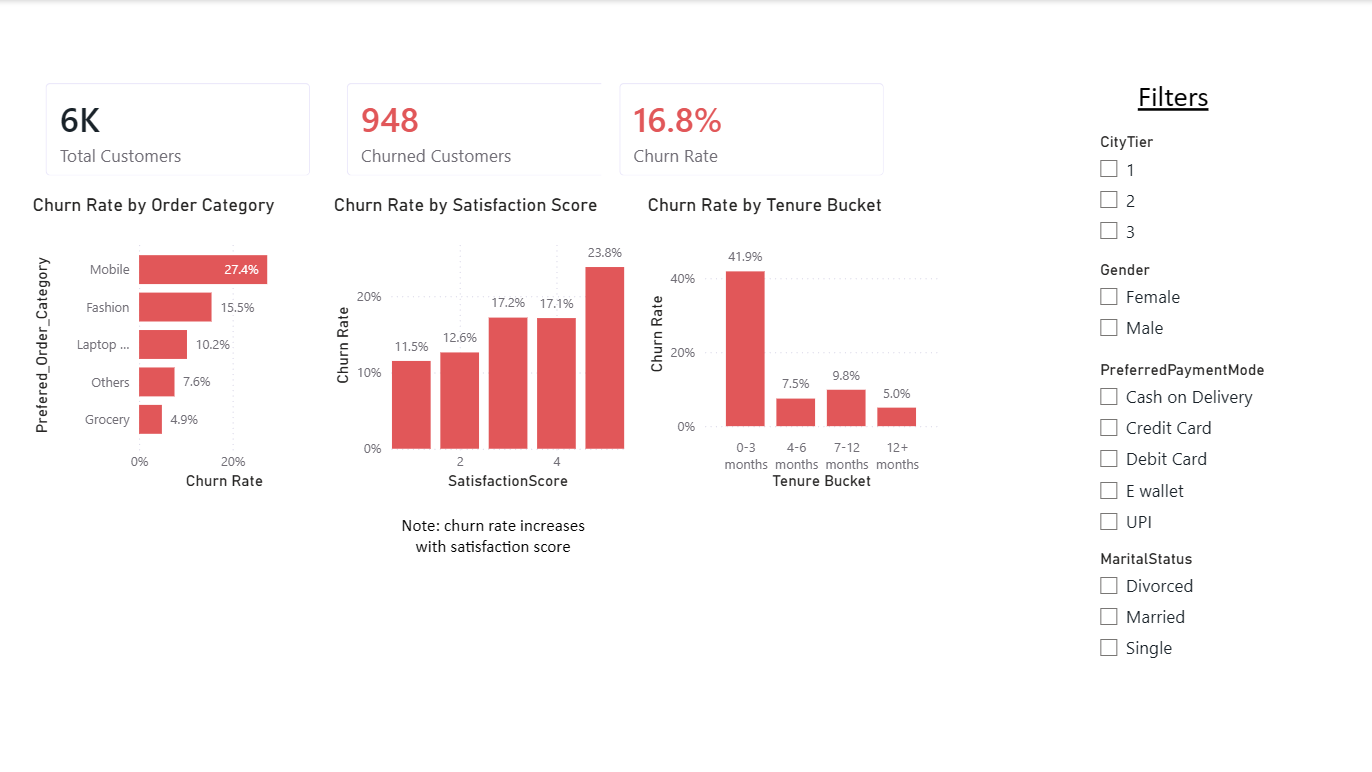

Layout of this report page (visuals, bound fields, positions):
{"tool":"powerbi","page":{"name":"Churn Overview","canvas":[1280,720],"ordinal":0},"visuals":[{"type":"cardVisual","fields":{"Data":["ecommerce_churn_for_powerbi.Total Customers"]},"box":[26,60.9,280.2,120],"z":0},{"type":"cardVisual","fields":{"Data":["ecommerce_churn_for_powerbi.Churned Customers"]},"box":[306.3,60.9,280,120],"z":1000},{"type":"cardVisual","fields":{"Data":["ecommerce_churn_for_powerbi.Churn Rate"]},"box":[559.8,60.9,280,120],"z":2000},{"type":"clusteredBarChart","title":"Churn Rate by Order Category","fields":{"Category":["ecommerce_churn_for_powerbi.PreferedOrderCat"],"Y":["ecommerce_churn_for_powerbi.Churn Rate"]},"box":[26,180.7,280,280],"z":3000},{"type":"clusteredColumnChart","title":"Churn Rate by Satisfaction Score","fields":{"Category":["ecommerce_churn_for_powerbi.SatisfactionScore"],"Y":["ecommerce_churn_for_powerbi.Churn Rate"]},"box":[306.3,180.7,280,280],"z":4000},{"type":"textbox","box":[358.6,474.9,201.2,52.3],"z":5000},{"type":"clusteredColumnChart","fields":{"Category":["ecommerce_churn_for_powerbi.Tenure Bucket"],"Y":["ecommerce_churn_for_powerbi.Churn Rate"]},"box":[598.1,180.2,280,280],"z":6000},{"type":"slicer","fields":{"Values":["ecommerce_churn_for_powerbi.CityTier"]},"box":[1010.7,118.1,102.3,118.6],"z":7000},{"type":"slicer","fields":{"Values":["ecommerce_churn_for_powerbi.Gender"]},"box":[1010.7,236.7,101.2,93],"z":8000},{"type":"slicer","fields":{"Values":["ecommerce_churn_for_powerbi.PreferredPaymentMode"]},"box":[1010.7,329.8,193,175.6],"z":9000},{"type":"slicer","fields":{"Values":["ecommerce_churn_for_powerbi.MaritalStatus"]},"box":[1010.7,505.4,127.9,125.6],"z":10000},{"type":"textbox","box":[990.7,68.6,201.2,52.3],"z":11000}]}

Visuals, with their boxes in screenshot pixels (x1, y1, x2, y2), scaled from the page's 1280x720 canvas onto the 1372x772 screenshot:
cardVisual - ecommerce_churn_for_powerbi.Total Customers: detection(28, 65, 328, 194)
cardVisual - ecommerce_churn_for_powerbi.Churned Customers: detection(328, 65, 628, 194)
cardVisual - ecommerce_churn_for_powerbi.Churn Rate: detection(600, 65, 900, 194)
"Churn Rate by Order Category" clusteredBarChart: detection(28, 194, 328, 494)
"Churn Rate by Satisfaction Score" clusteredColumnChart: detection(328, 194, 628, 494)
textbox: detection(384, 509, 600, 565)
clusteredColumnChart - ecommerce_churn_for_powerbi.Tenure Bucket x ecommerce_churn_for_powerbi.Churn Rate: detection(641, 193, 941, 493)
slicer - ecommerce_churn_for_powerbi.CityTier: detection(1083, 127, 1193, 254)
slicer - ecommerce_churn_for_powerbi.Gender: detection(1083, 254, 1192, 354)
slicer - ecommerce_churn_for_powerbi.PreferredPaymentMode: detection(1083, 354, 1290, 542)
slicer - ecommerce_churn_for_powerbi.MaritalStatus: detection(1083, 542, 1220, 677)
textbox: detection(1062, 74, 1278, 130)
